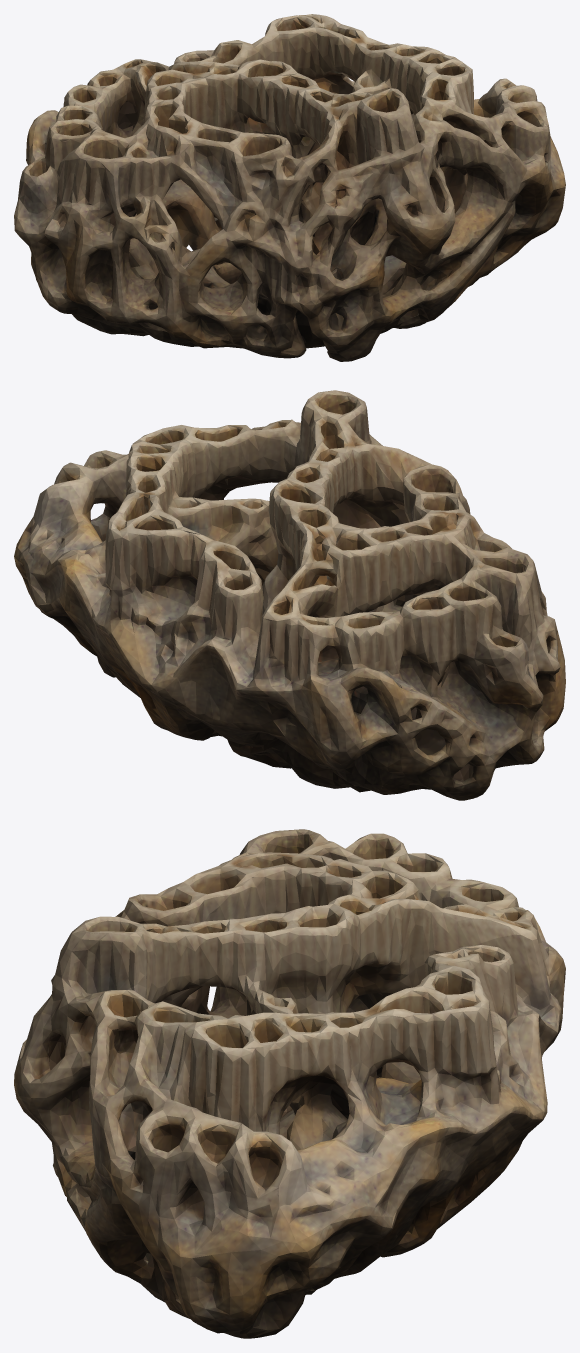
3 views of the same model, one above another, from view 1: azimuth 30°, elevation 25°; view 2: azimuth 150°, elevation 25°; view 3: azimuth 270°, elevation 25° (orthographic). The views are drawn at different scales.
Visible parts, largest first — view 1: world; view 2: world; view 3: world.
Boxes of the visible parts, x1,y1,x2,y2 form: world: (14, 14, 565, 361); world: (14, 390, 565, 800); world: (14, 829, 565, 1338).
Bounding box in the file's own units: 0.997 × 0.5048 × 0.7139.
Materials: 1 (1 with a texture image).
